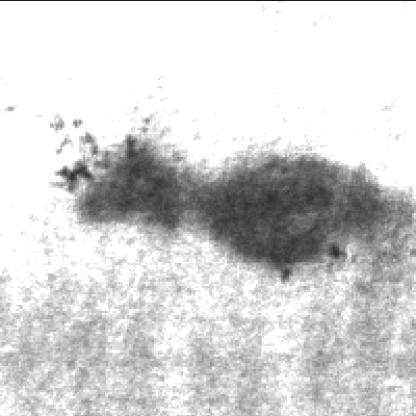patches: (181, 144, 385, 264), (64, 125, 192, 233)
